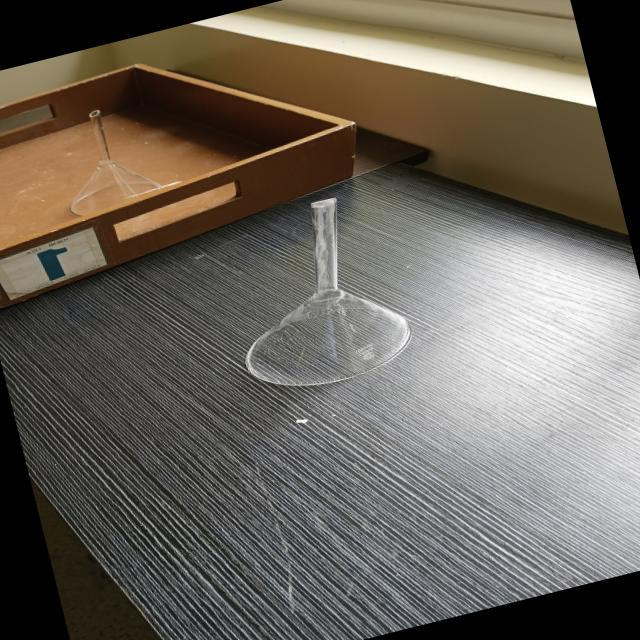funnel: (203, 176, 442, 410)
